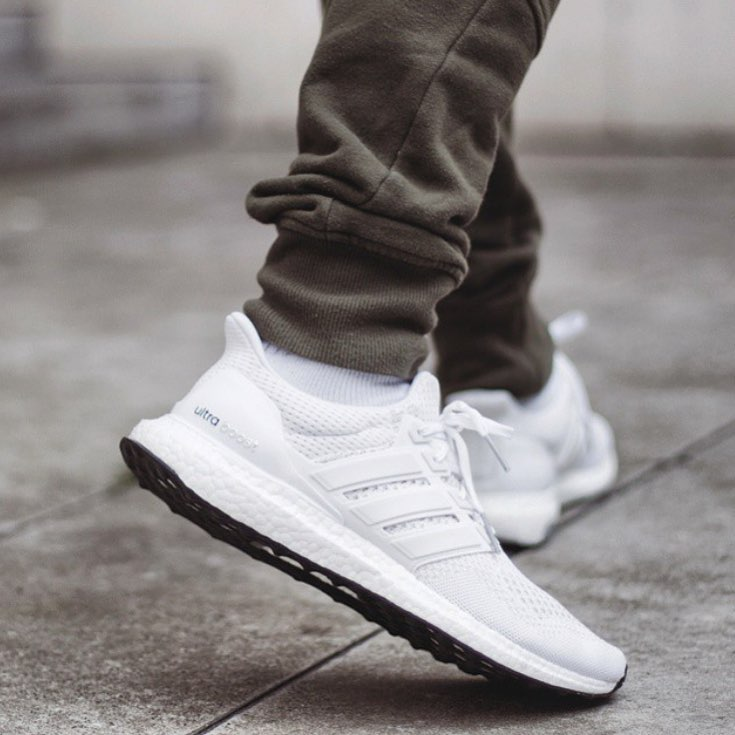sneaker: (76, 275, 661, 725), (424, 347, 625, 562)
